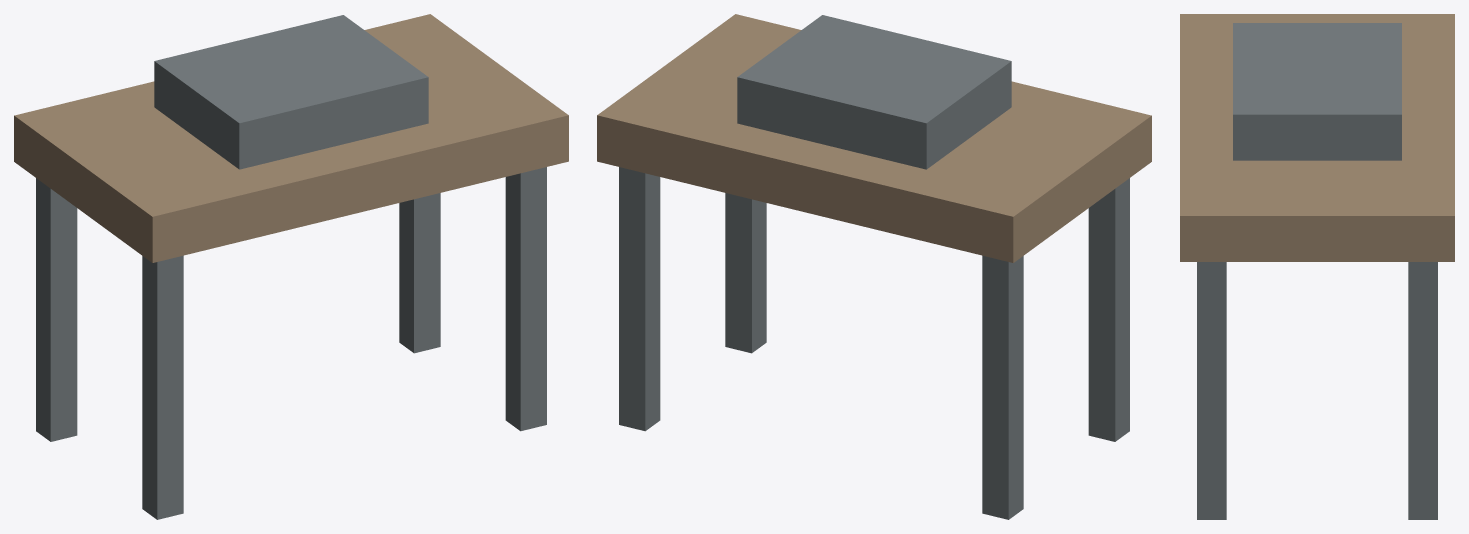
The model's file is iz2_water_boiling_rig.glb.
The picture shows the model from 3 angles, left to right: view 1: azimuth 30°, elevation 25°; view 2: azimuth 150°, elevation 25°; view 3: azimuth 270°, elevation 25°; orthographic projection.
Parts seen in each view (by area): view 1: body; view 2: body; view 3: body.
Boxes of the visible parts, x1,y1,x2,y2 form: body: (14, 14, 568, 519); body: (597, 14, 1151, 519); body: (1180, 14, 1454, 519).
Size of the model in its own units: 1.12 by 0.9207 by 0.6435.
